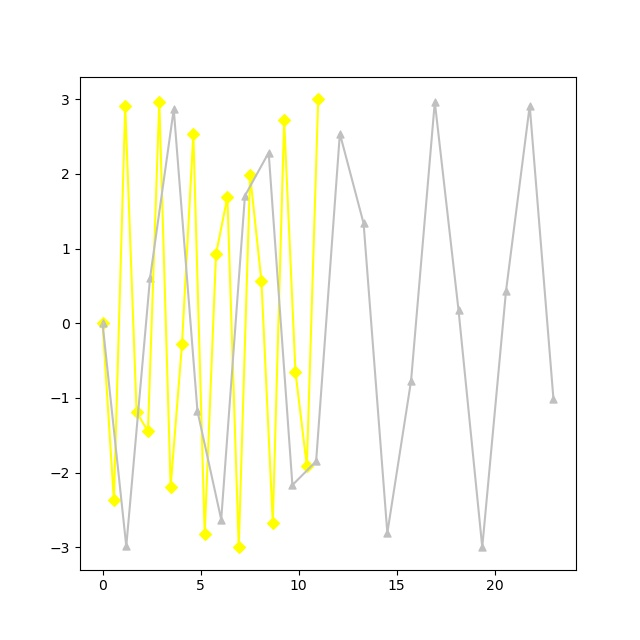diamond: (98, 318, 109, 329), (109, 495, 120, 506), (120, 101, 131, 112), (132, 407, 143, 418), (143, 426, 154, 437), (154, 97, 165, 108), (166, 482, 177, 493), (177, 339, 188, 350), (188, 129, 199, 140), (200, 529, 211, 540), (211, 249, 222, 260), (222, 192, 233, 203), (234, 542, 245, 553), (245, 170, 256, 181), (256, 276, 267, 287), (268, 518, 279, 529), (279, 115, 290, 126), (290, 367, 301, 378), (302, 461, 313, 472), (313, 94, 324, 105)
triangle_up: (98, 319, 108, 329), (122, 542, 132, 552), (146, 274, 156, 284), (169, 105, 179, 115), (193, 407, 203, 417), (217, 515, 227, 525), (240, 191, 250, 201), (264, 148, 274, 158), (288, 481, 298, 491), (312, 457, 322, 467), (335, 129, 345, 139), (359, 219, 369, 229), (383, 528, 393, 538), (407, 376, 417, 386), (430, 97, 440, 107), (454, 306, 464, 316), (478, 543, 488, 553), (501, 287, 511, 297), (525, 101, 535, 111), (549, 395, 559, 405)
